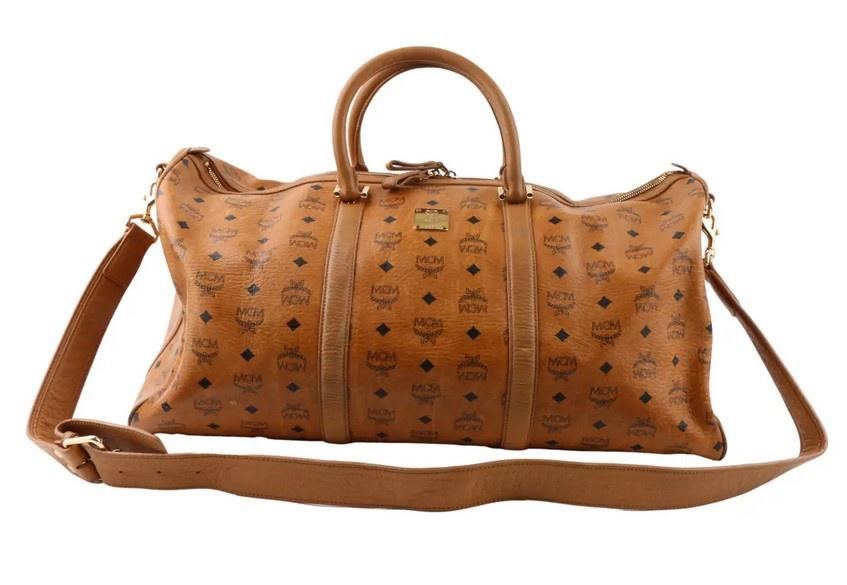MCM: (136, 151, 725, 459)
